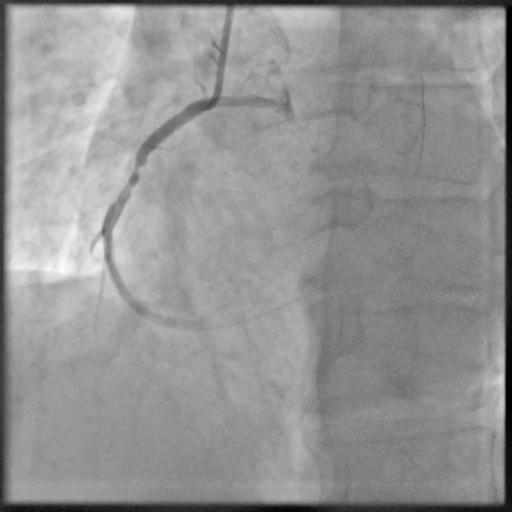Stenosis: (126, 160, 143, 189)
